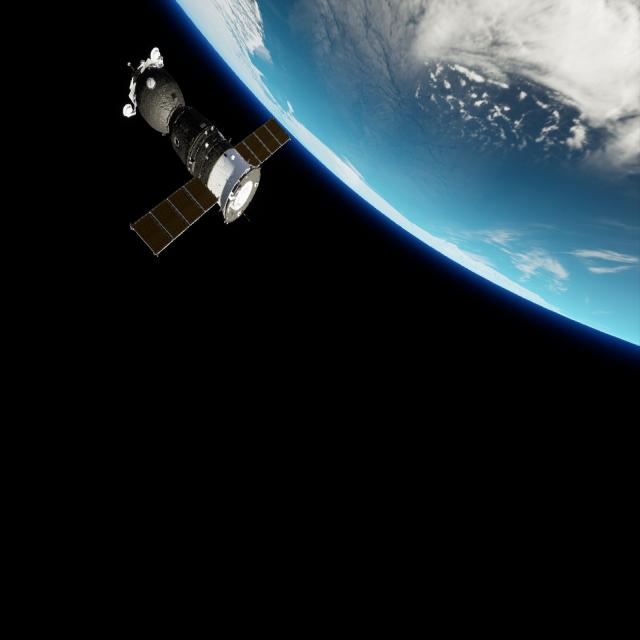Satellites revolving around earth: (120, 45, 292, 258)
